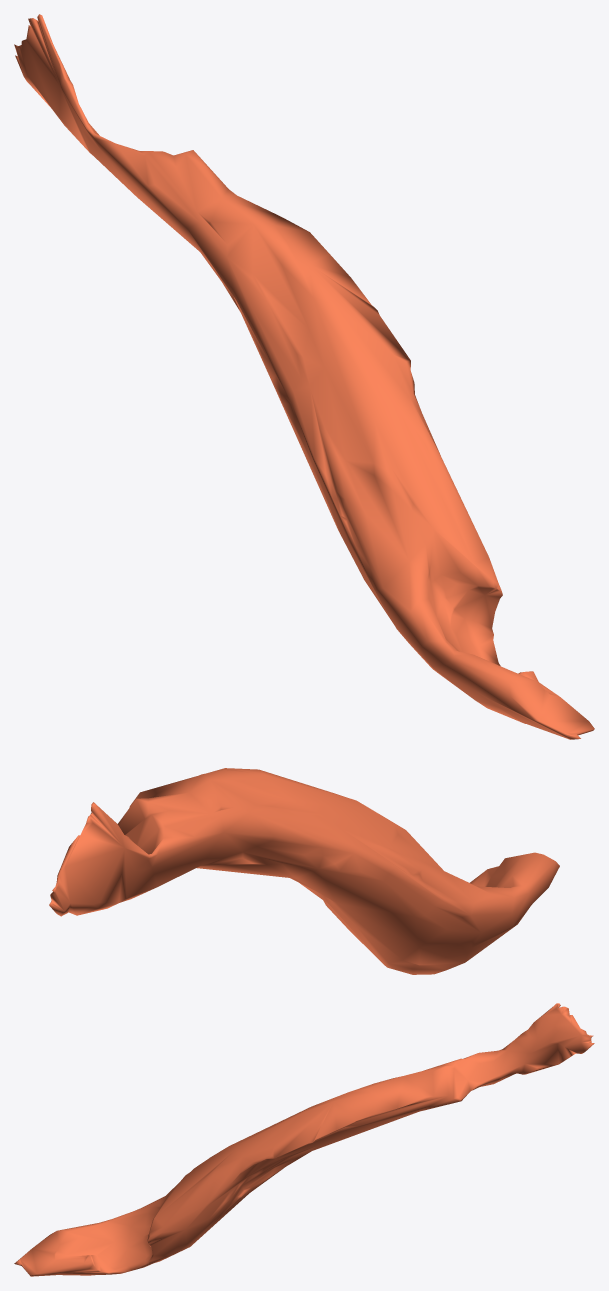
The model's file is Flexor_hallucis_brevis_medial_head_left.glb.
3 renders of one model, top to bottom at view 1: azimuth 30°, elevation 25°; view 2: azimuth 150°, elevation 25°; view 3: azimuth 270°, elevation 25°, orthographic. The views are drawn at different scales.
Parts seen in each view (by area): view 1: Medial_head_of_flexor_hallucis_brevis.l_Generated_Mesh_From_; view 2: Medial_head_of_flexor_hallucis_brevis.l_Generated_Mesh_From_; view 3: Medial_head_of_flexor_hallucis_brevis.l_Generated_Mesh_From_.
Part boxes in pixels (bbox=[...]): Medial_head_of_flexor_hallucis_brevis.l_Generated_Mesh_From_: bbox=[14, 14, 594, 739]; Medial_head_of_flexor_hallucis_brevis.l_Generated_Mesh_From_: bbox=[49, 768, 559, 974]; Medial_head_of_flexor_hallucis_brevis.l_Generated_Mesh_From_: bbox=[14, 1003, 594, 1276].
Size of the model in its own units: 0.013 by 0.0398 by 0.0834.
